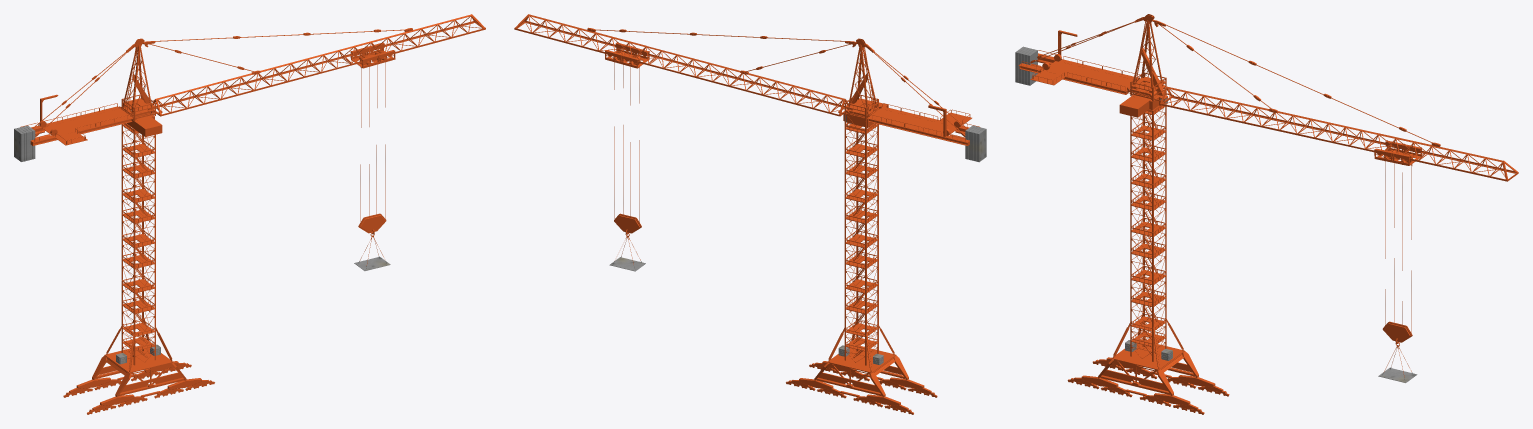
File: okpo_ttc.glb
3 views of the same model, side by side, from view 1: azimuth 30°, elevation 25°; view 2: azimuth 150°, elevation 25°; view 3: azimuth 330°, elevation 25° (orthographic). The views are drawn at different scales.
Parts seen in each view (by area): view 1: TTC_Top, TTC_Bottom; view 2: TTC_Top, TTC_Bottom; view 3: TTC_Top, TTC_Bottom.
Part boxes in pixels (left/top/right/bottom): TTC_Top: left=14, top=14, right=485, bottom=270; TTC_Bottom: left=63, top=123, right=214, bottom=414; TTC_Top: left=514, top=14, right=986, bottom=271; TTC_Bottom: left=786, top=123, right=937, bottom=414; TTC_Top: left=1015, top=14, right=1518, bottom=382; TTC_Bottom: left=1067, top=105, right=1229, bottom=414.
Size of the model in its own units: 138 by 99.74 by 16.63.
3 materials, 3 textured.
